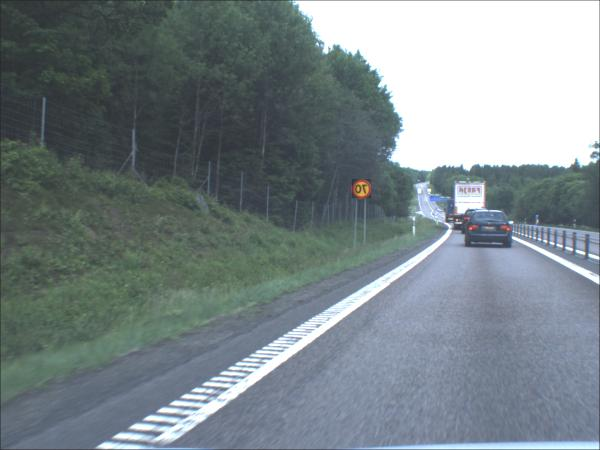70_SIGN: (352, 180, 372, 200)
